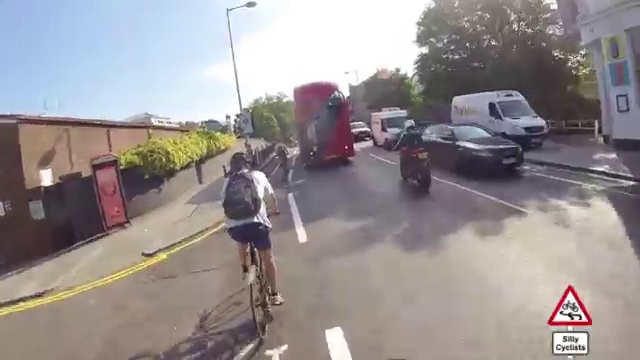cyclist_back: (222, 147, 289, 341), (394, 119, 436, 192)
